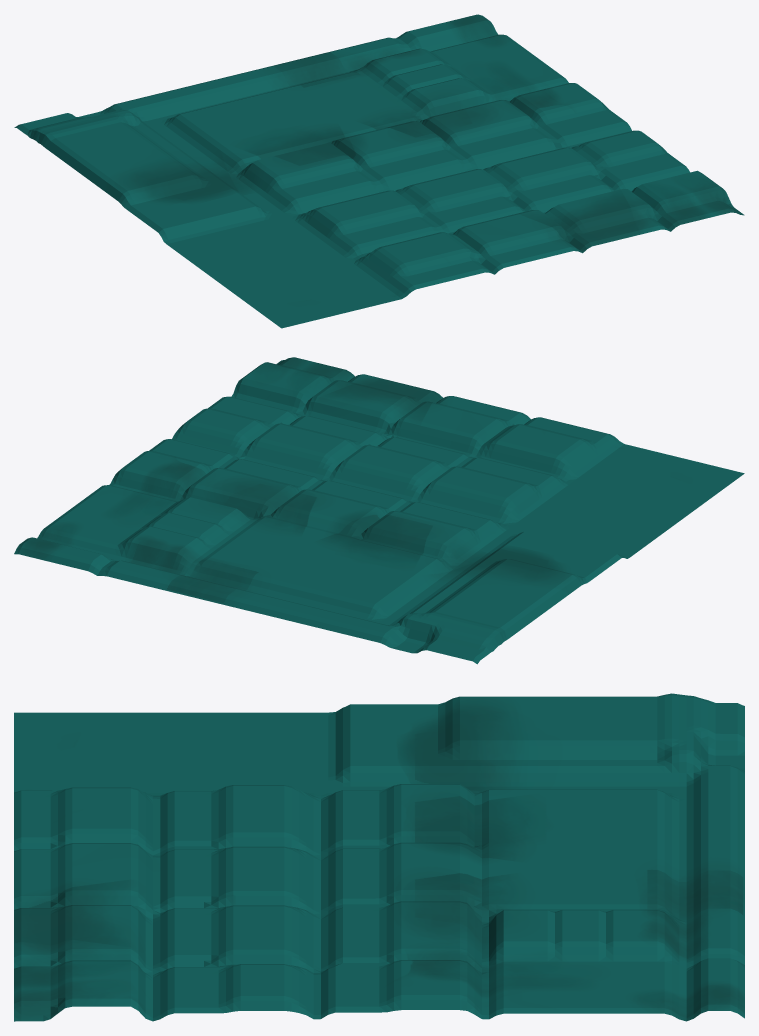
Rendered from YoutubeLevelGeometry.dae.
3 renders of one model, top to bottom at view 1: azimuth 30°, elevation 25°; view 2: azimuth 150°, elevation 25°; view 3: azimuth 270°, elevation 25°, orthographic. The views are drawn at different scales.
Parts seen in each view (by area): view 1: YoutubeLevelGeometry; view 2: YoutubeLevelGeometry; view 3: YoutubeLevelGeometry.
Boxes of the visible parts, bbox=[...] form: YoutubeLevelGeometry: bbox=[14, 14, 744, 328]; YoutubeLevelGeometry: bbox=[14, 357, 744, 664]; YoutubeLevelGeometry: bbox=[14, 693, 744, 1021].
Bounding box in the file's own units: 100 × 100 × 3.53.
1 material, 1 textured.
